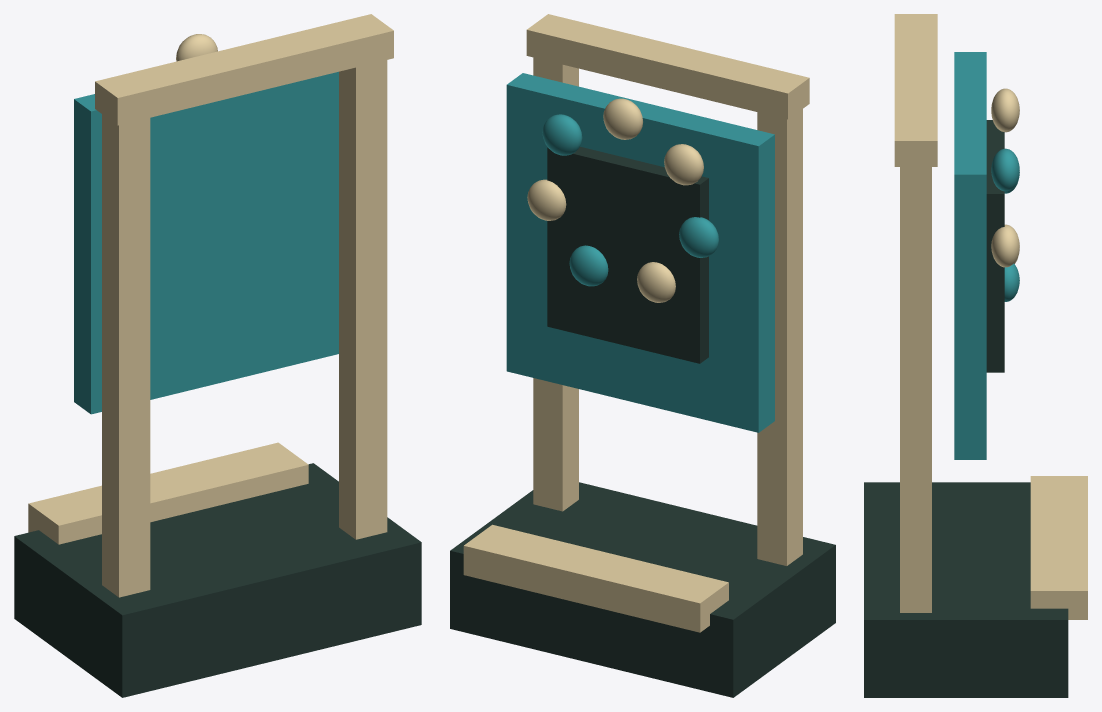
Rendered from fanstand.steppe-sails-old.glb.
The picture shows the model from 3 angles, left to right: view 1: azimuth 30°, elevation 25°; view 2: azimuth 150°, elevation 25°; view 3: azimuth 270°, elevation 25°; orthographic projection. The views are drawn at different scales.
Visible parts, largest first — view 1: support plinth; view 2: support plinth; view 3: support plinth.
Part boxes in pixels (x1,y1,x2,y2): support plinth: (14,14,421,697); support plinth: (450,14,835,697); support plinth: (864,14,1087,697).
Size of the model in its own units: 0.91 by 1.7 by 0.625.
